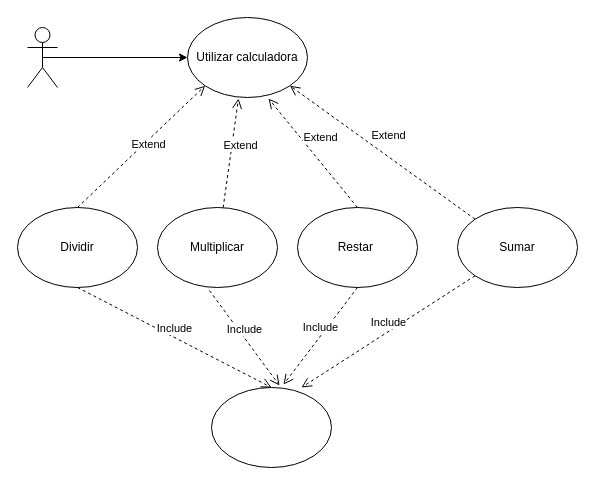
The diagram is 595 pixels wide and 485 high, and some of its shapes have lost their labels. Each missing label, with the centre of its shape:
Mostrar Resultado: (x=271, y=427)
Usuario: (x=42, y=57)
